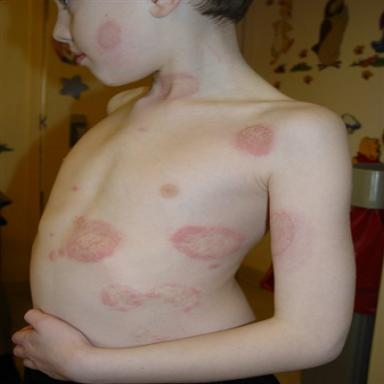Tinea-Corporis: (100, 283, 200, 312), (59, 216, 121, 262), (171, 226, 244, 259), (154, 73, 198, 99), (237, 125, 273, 155), (271, 212, 294, 255), (97, 21, 121, 49)
